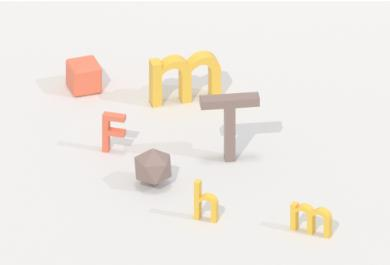0-KhoiVuong: (61, 51, 106, 101)
0-TronCanh: (132, 145, 175, 189)
F: (98, 108, 129, 157)
T: (197, 89, 263, 166)
h: (190, 175, 221, 226)
m: (285, 197, 338, 243)
